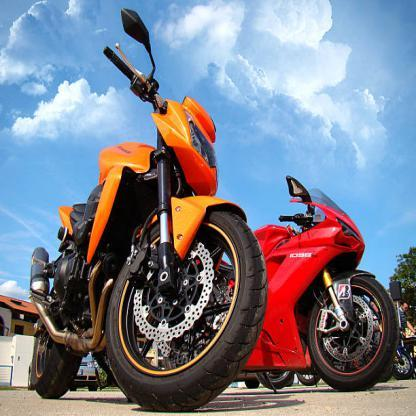Motorcycle: (21, 1, 267, 415), (257, 162, 397, 391)
